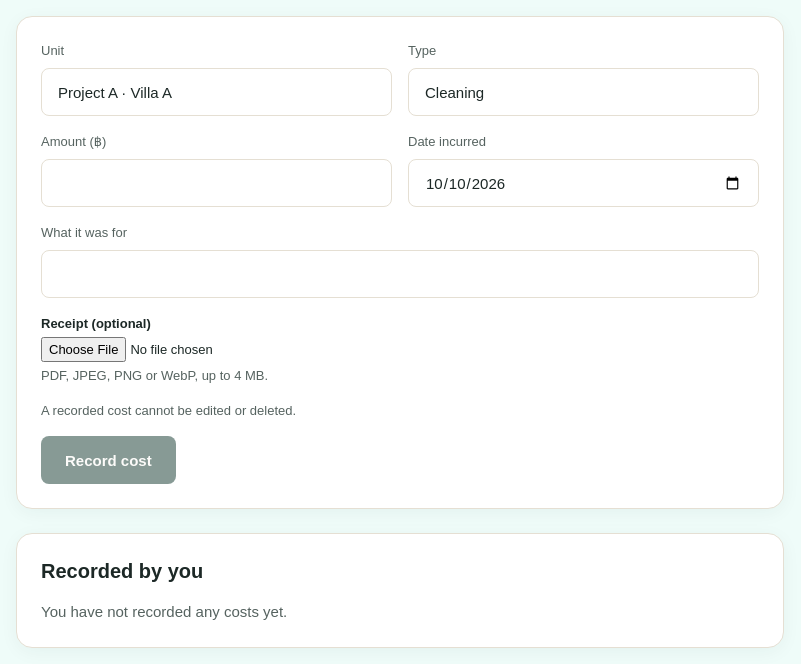
Test: RecordCostClient › recognises a replay and does not list the cost twice
The image size is (801, 664).
Type "1250.50" into the field labelled "Amount (฿)" at {"x": 216, "y": 183}, box [41, 159, 392, 207]
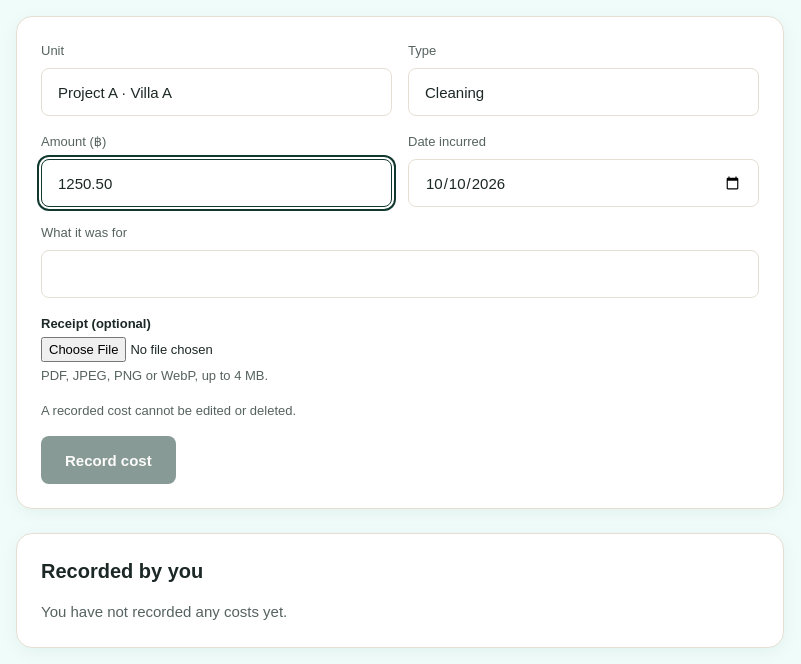
Type "Deep clean" into the field labelled "What it was for" at {"x": 400, "y": 274}, box [41, 250, 759, 298]
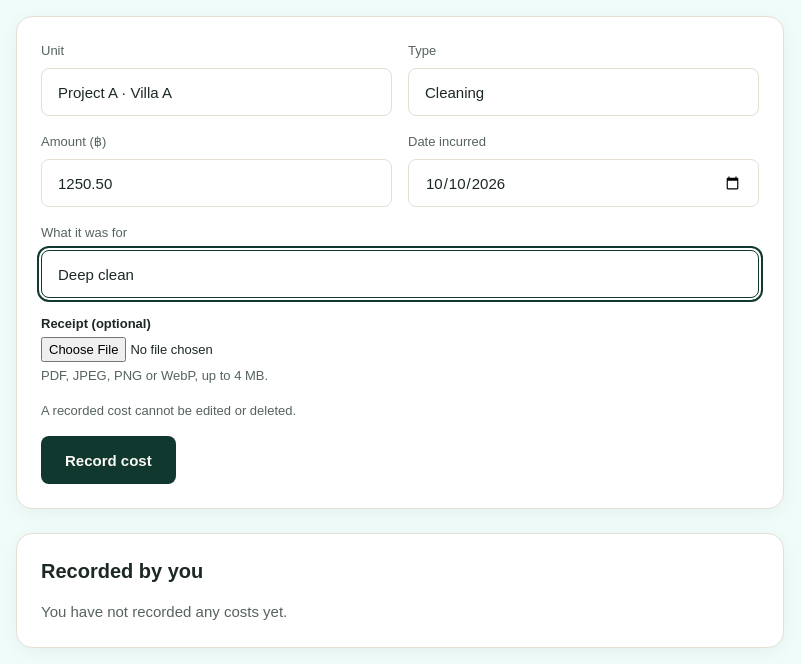
Click the button "Record cost" at {"x": 108, "y": 460}, box [41, 436, 176, 484]
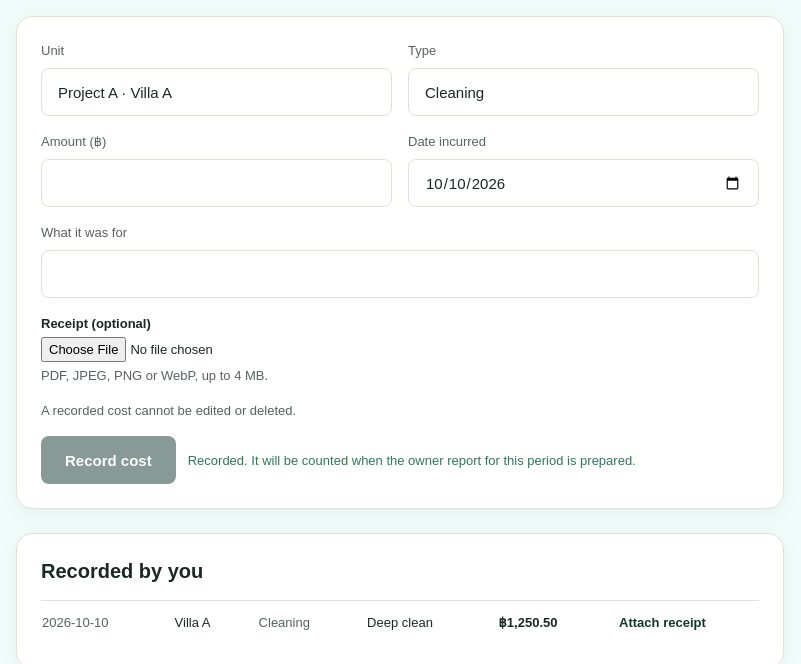
Expected: the message is shown, [188, 450, 636, 470]
Type "1250.50" into the field labelled "Amount (฿)" at {"x": 216, "y": 183}, box [41, 159, 392, 207]
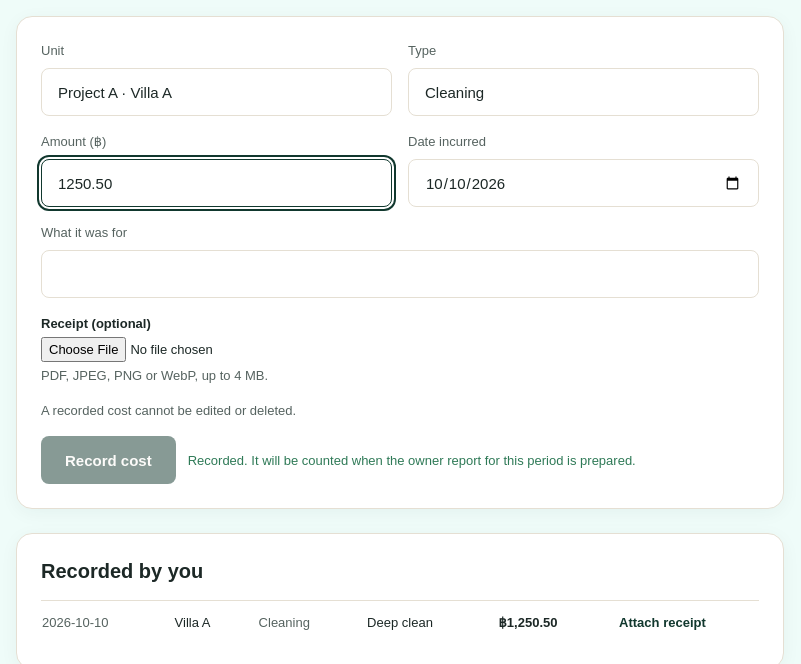
Type "Deep clean" into the field labelled "What it was for" at {"x": 400, "y": 274}, box [41, 250, 759, 298]
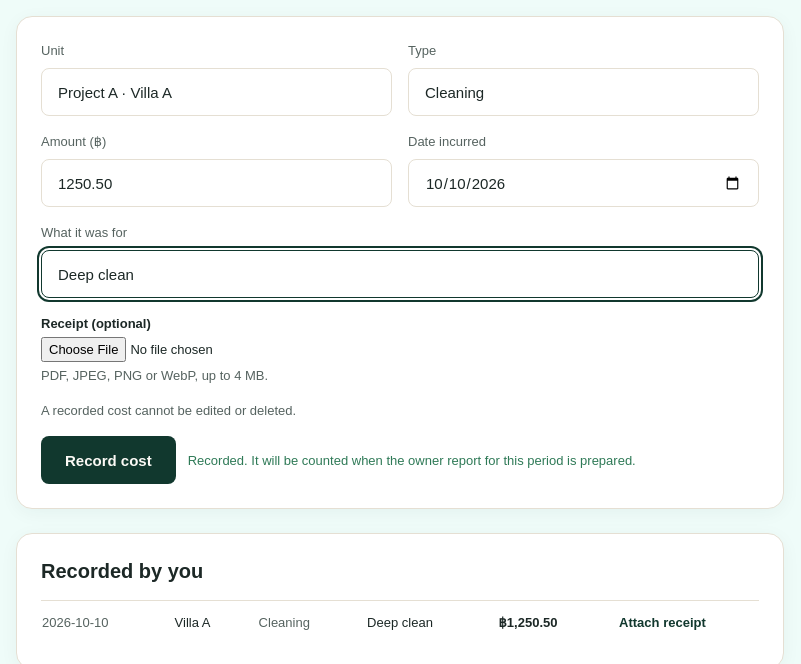
Click the button "Record cost" at {"x": 108, "y": 460}, box [41, 436, 176, 484]
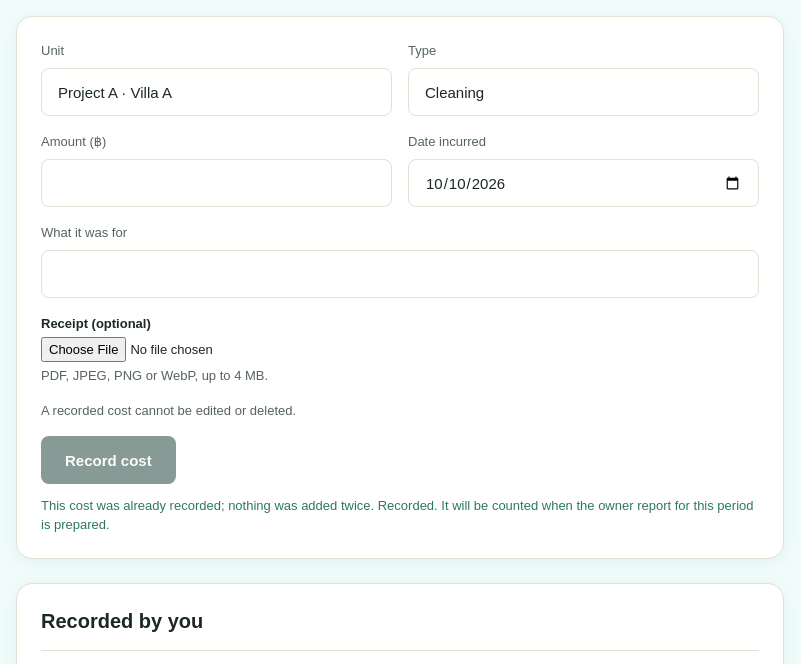
Expected: the message shows "nothing was added twice", [41, 498, 754, 532]
